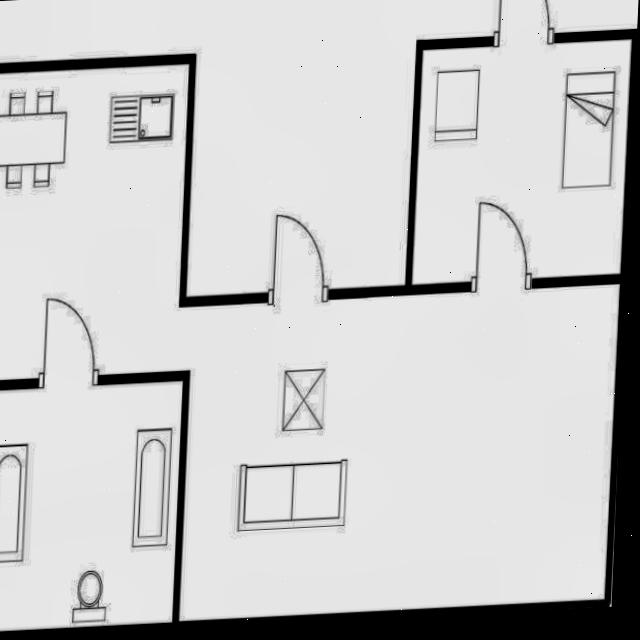room: (0, 63, 619, 620), (411, 28, 632, 294), (0, 380, 183, 630)
